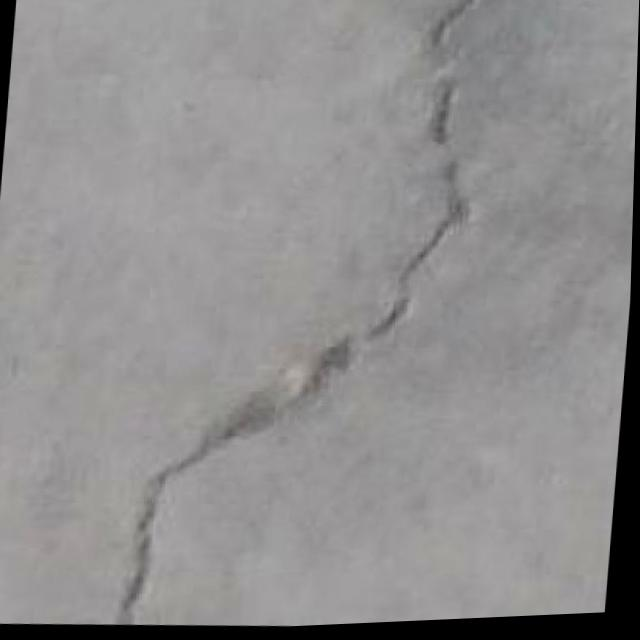Crack: (105, 0, 513, 636)
